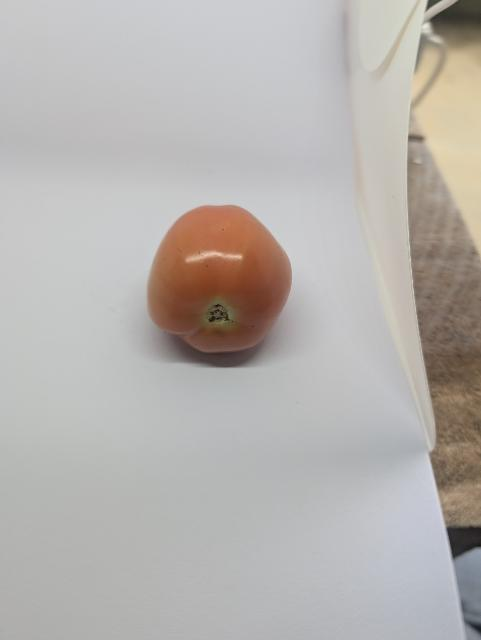turning: (141, 191, 305, 364)
